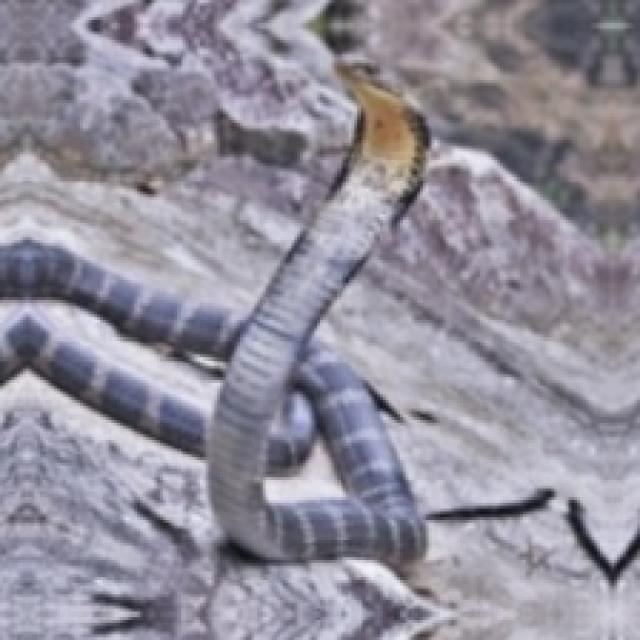king cobra: (0, 66, 426, 560), (260, 406, 346, 503)
